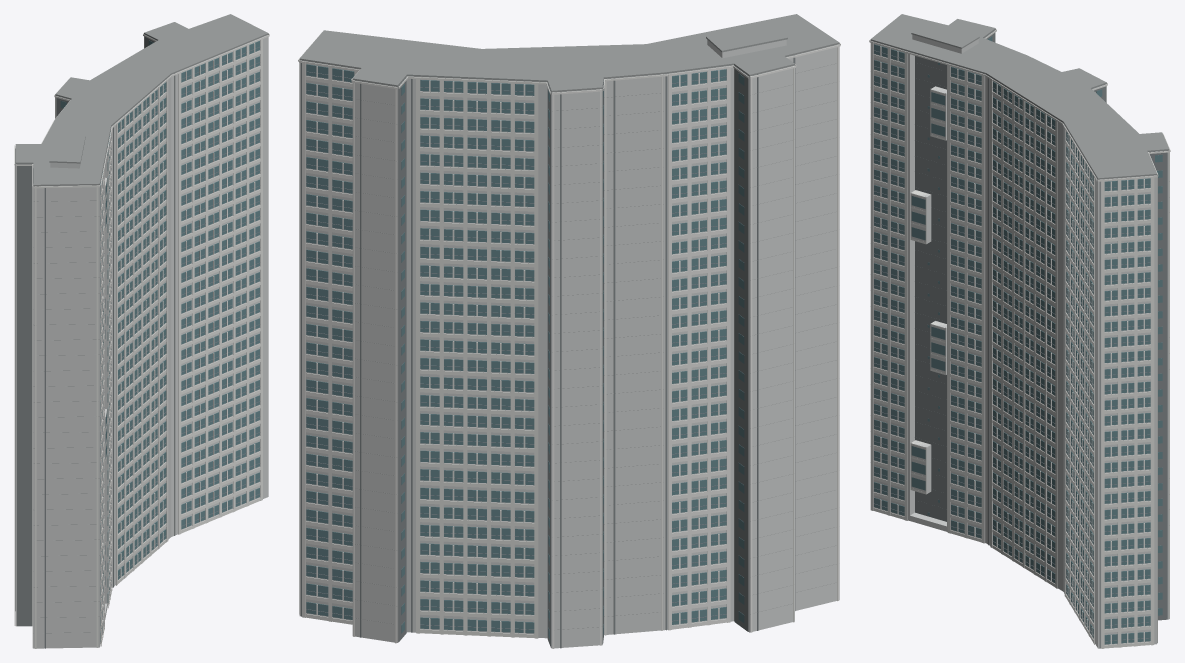
The model's file is bespoke-seoulforest-riverview-xi-106.glb.
3 renders of one model, left to right at view 1: azimuth 30°, elevation 25°; view 2: azimuth 150°, elevation 25°; view 3: azimuth 270°, elevation 25°, orthographic. The views are drawn at different scales.
Parts seen in each view (by area): view 1: SFRX106_editable_SFRX106_light_grey_solid_wall, SFRX106_editable_SFRX106_broad_white_facade_frames, SFRX106_editable_SFRX106_blue_grey_horizontal_glazing, SFRX106_editable_SFRX106_modest_grey_flat_roof_caps, SFRX106_editable_SFRX106_deep_gray_recessed_service_wall, SFRX106_editable_SFRX106_dark_horizontal_spandrels_and_mulli; view 2: SFRX106_editable_SFRX106_light_grey_solid_wall, SFRX106_editable_SFRX106_broad_white_facade_frames, SFRX106_editable_SFRX106_blue_grey_horizontal_glazing, SFRX106_editable_SFRX106_deep_gray_recessed_service_wall, SFRX106_editable_SFRX106_modest_grey_flat_roof_caps, SFRX106_editable_SFRX106_dark_horizontal_spandrels_and_mulli; view 3: SFRX106_editable_SFRX106_broad_white_facade_frames, SFRX106_editable_SFRX106_blue_grey_horizontal_glazing, SFRX106_editable_SFRX106_light_grey_solid_wall, SFRX106_editable_SFRX106_deep_gray_recessed_service_wall, SFRX106_editable_SFRX106_modest_grey_flat_roof_caps, SFRX106_editable_SFRX106_dark_horizontal_spandrels_and_mulli.
Part boxes in pixels (bbox=[...]): SFRX106_editable_SFRX106_light_grey_solid_wall: bbox=[15, 34, 268, 648]; SFRX106_editable_SFRX106_broad_white_facade_frames: bbox=[14, 33, 269, 648]; SFRX106_editable_SFRX106_blue_grey_horizontal_glazing: bbox=[60, 40, 259, 641]; SFRX106_editable_SFRX106_modest_grey_flat_roof_caps: bbox=[15, 14, 268, 633]; SFRX106_editable_SFRX106_deep_gray_recessed_service_wall: bbox=[15, 34, 175, 648]; SFRX106_editable_SFRX106_dark_horizontal_spandrels_and_mulli: bbox=[101, 47, 260, 633]; SFRX106_editable_SFRX106_light_grey_solid_wall: bbox=[299, 39, 839, 648]; SFRX106_editable_SFRX106_broad_white_facade_frames: bbox=[298, 32, 840, 648]; SFRX106_editable_SFRX106_blue_grey_horizontal_glazing: bbox=[306, 64, 744, 639]; SFRX106_editable_SFRX106_deep_gray_recessed_service_wall: bbox=[301, 55, 795, 648]; SFRX106_editable_SFRX106_modest_grey_flat_roof_caps: bbox=[299, 14, 839, 630]; SFRX106_editable_SFRX106_dark_horizontal_spandrels_and_mulli: bbox=[306, 71, 726, 629]; SFRX106_editable_SFRX106_broad_white_facade_frames: bbox=[869, 29, 1170, 648]; SFRX106_editable_SFRX106_blue_grey_horizontal_glazing: bbox=[874, 36, 1162, 644]; SFRX106_editable_SFRX106_light_grey_solid_wall: bbox=[871, 30, 1169, 648]; SFRX106_editable_SFRX106_deep_gray_recessed_service_wall: bbox=[915, 30, 1167, 648]; SFRX106_editable_SFRX106_modest_grey_flat_roof_caps: bbox=[870, 14, 1169, 179]; SFRX106_editable_SFRX106_dark_horizontal_spandrels_and_mulli: bbox=[873, 50, 1150, 641].
Bounding box in the file's own units: 65.46 × 88.1 × 50.41.
